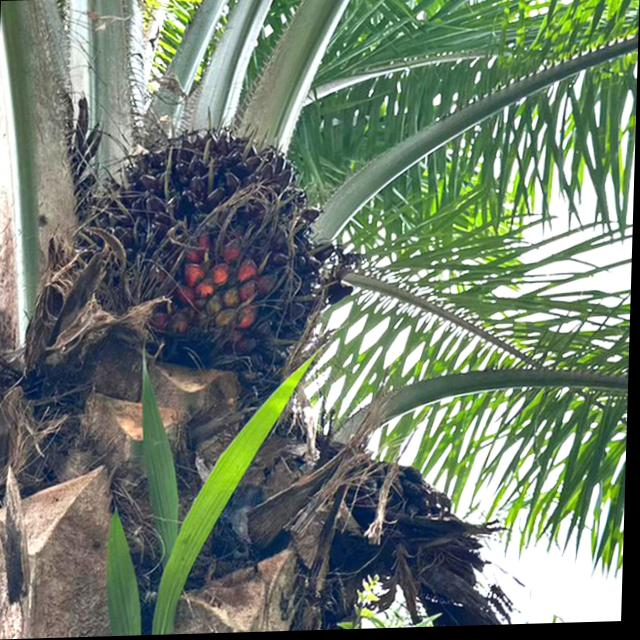ripe: (59, 93, 354, 393)
